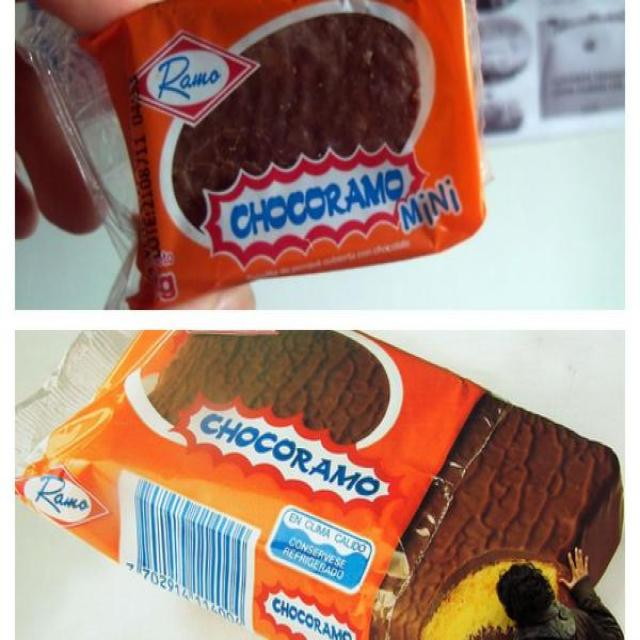Codigo_barras: (120, 469, 265, 636)
